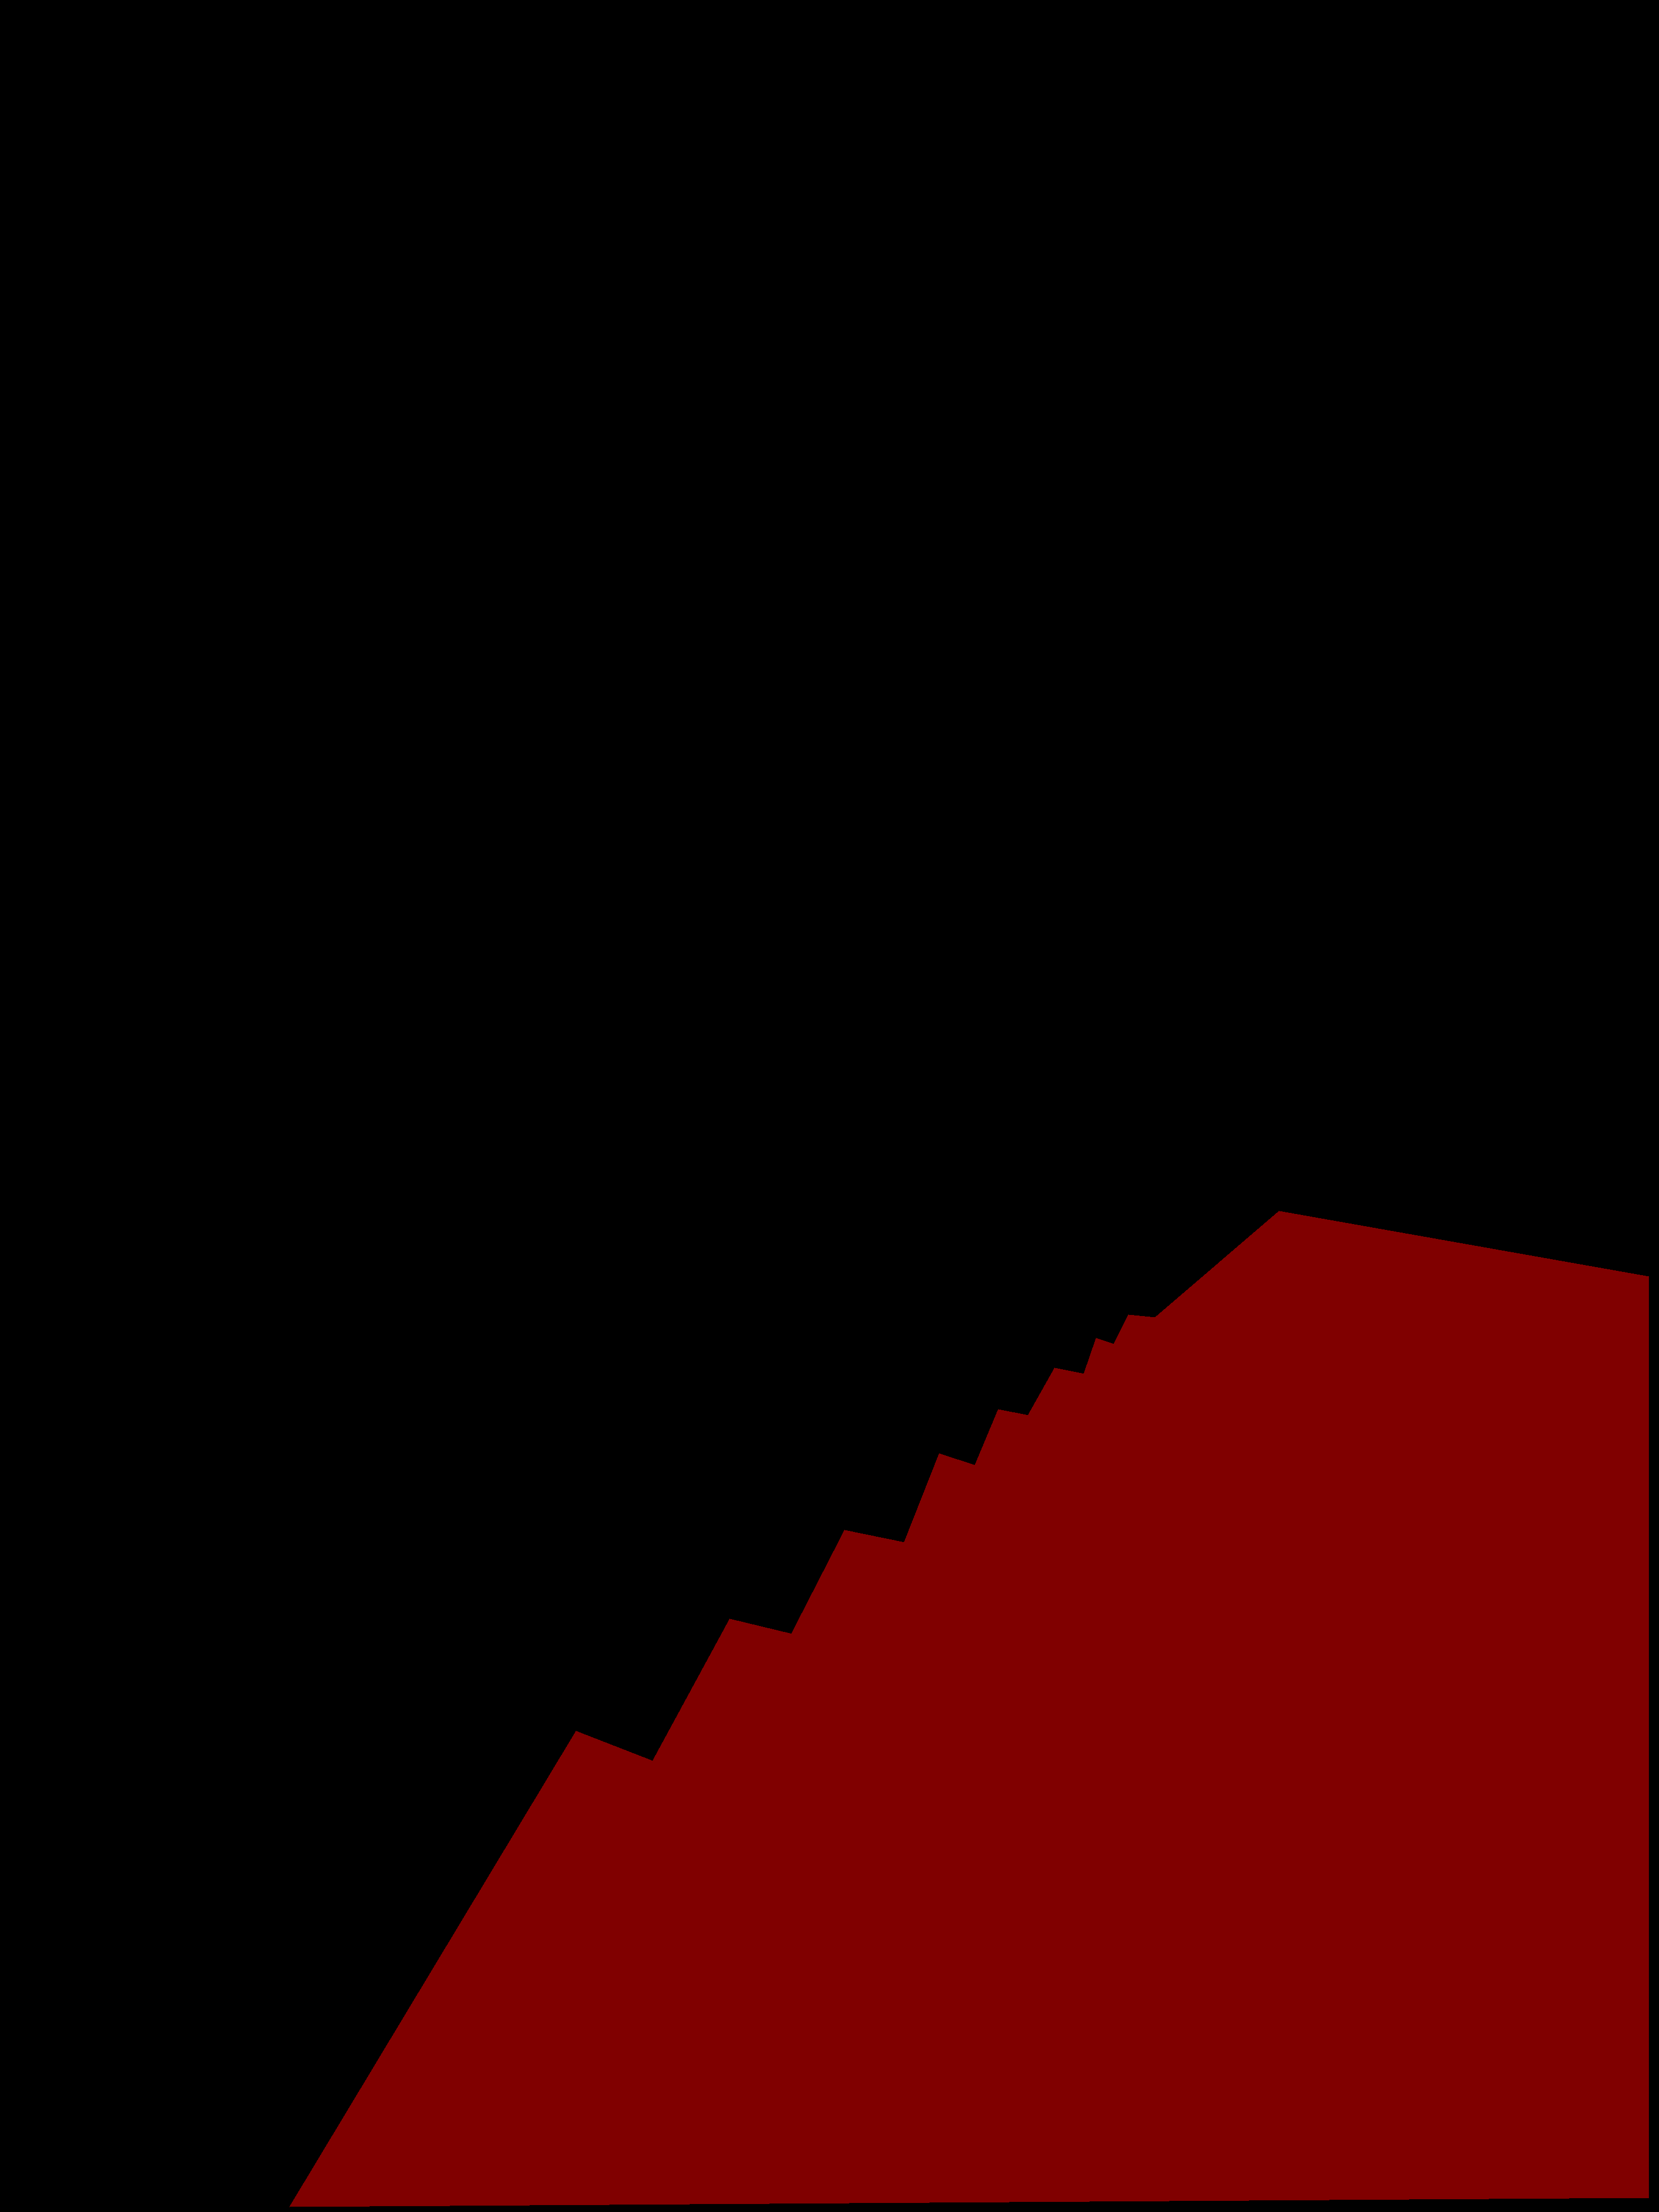stair: (289, 1211, 1649, 2207)
